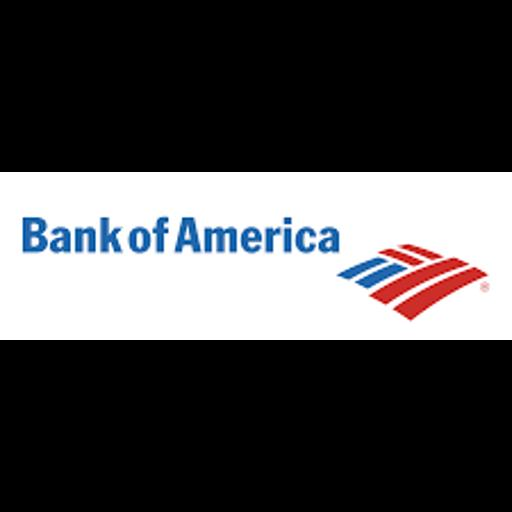Bank of America: (0, 172, 512, 340)
